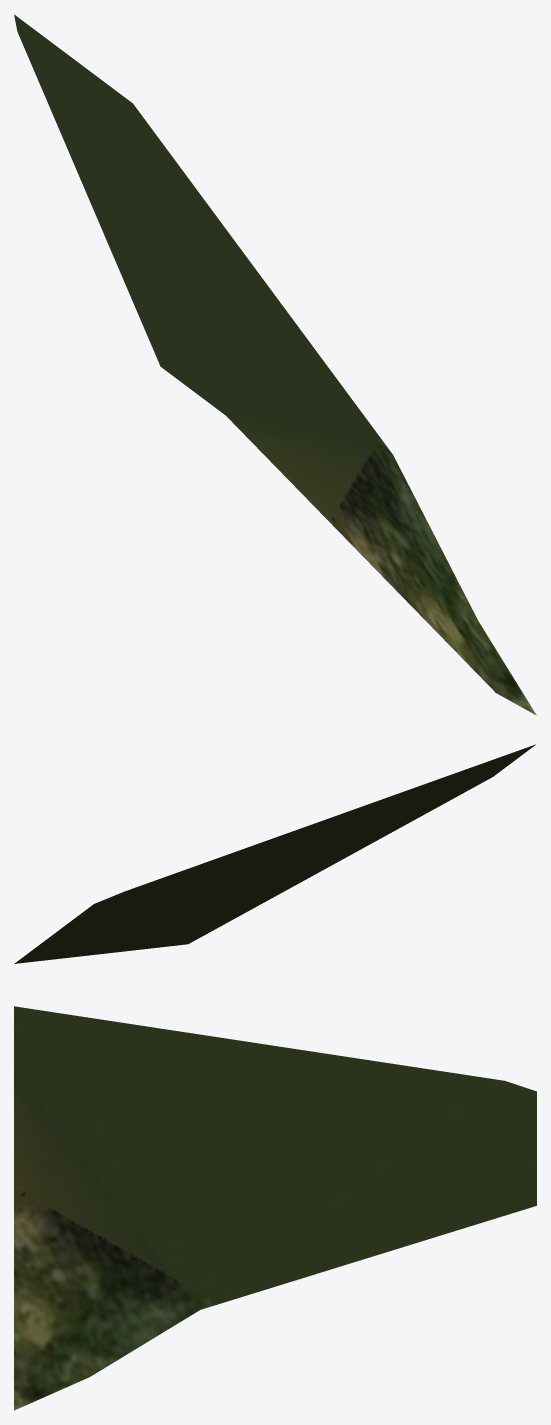
3 views of the same model, one above another, from view 1: azimuth 30°, elevation 25°; view 2: azimuth 150°, elevation 25°; view 3: azimuth 270°, elevation 25° (orthographic). The views are drawn at different scales.
Size of the model in its own units: 1.59 by 1.78 by 2.95.
Materials: 2 (2 with a texture image).
